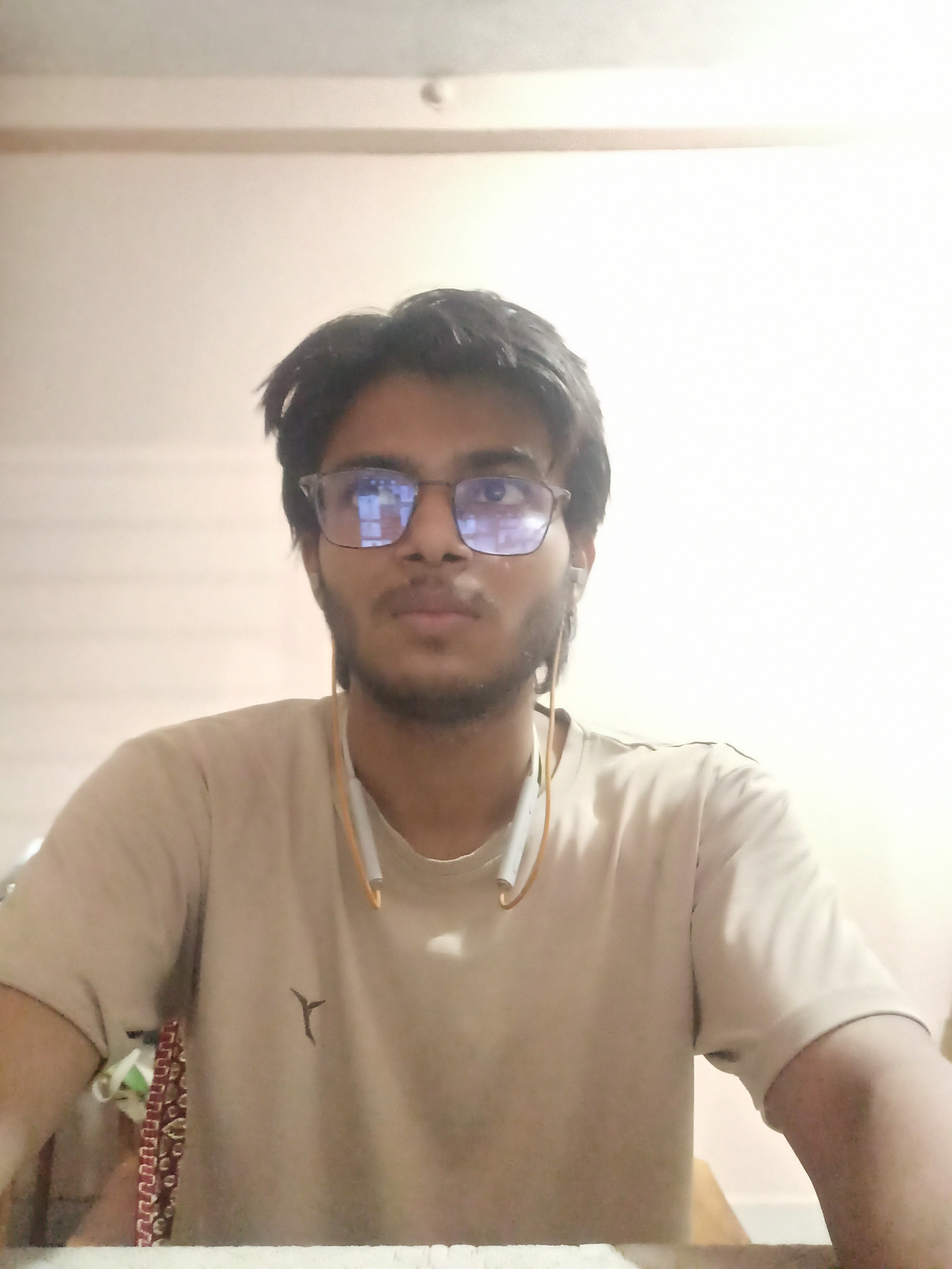Focused: (260, 280, 635, 754)
